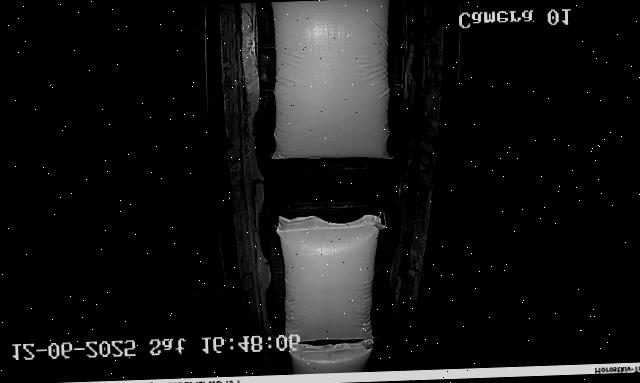bag: (266, 0, 397, 161), (277, 212, 388, 341), (290, 338, 374, 374)
